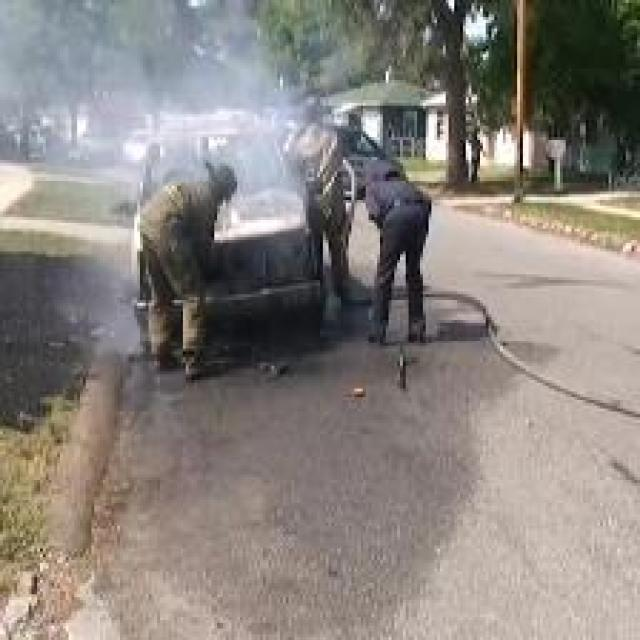other: (212, 161, 311, 238)
